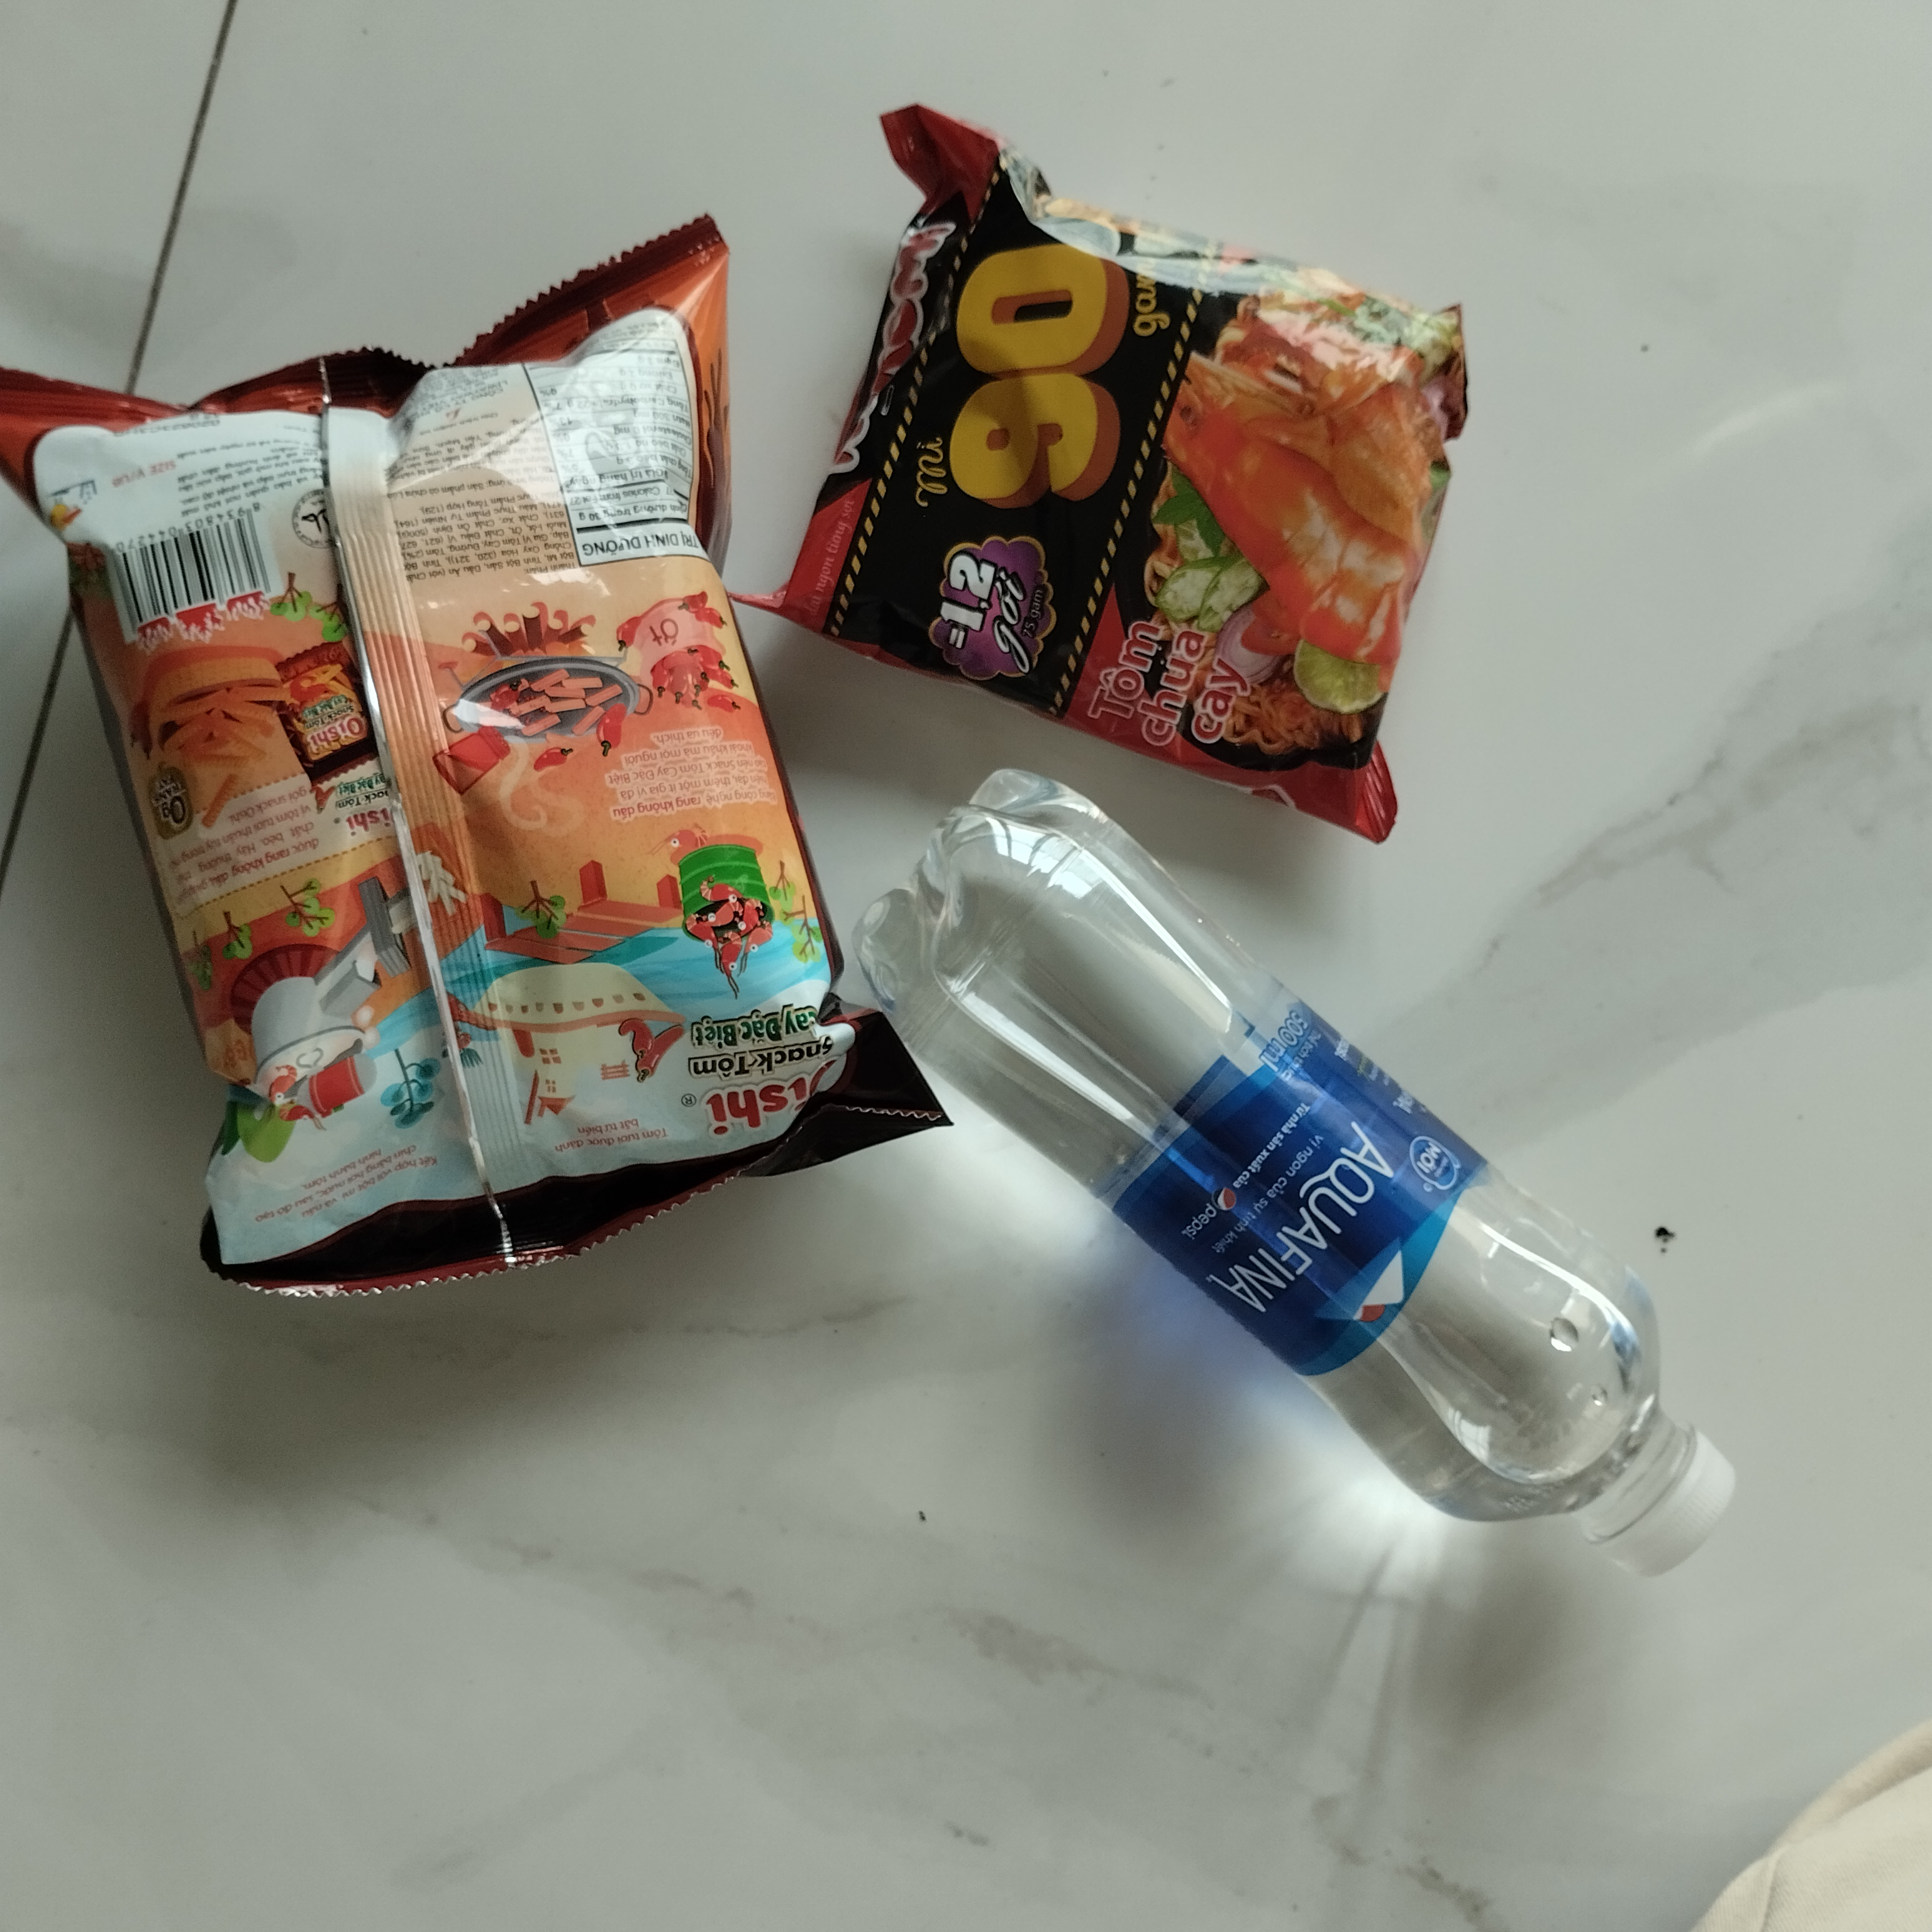Aquafina: (863, 766, 1744, 1598)
Kokomi: (768, 110, 1493, 879)
Oishi_Cay: (7, 223, 959, 1368)
